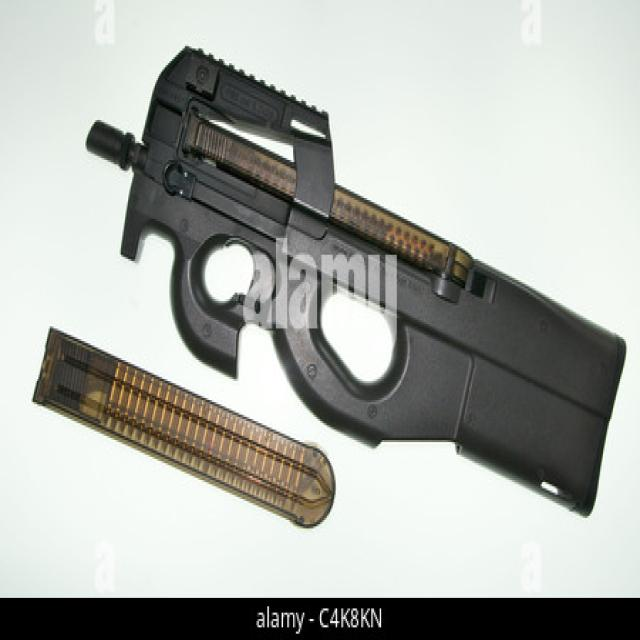Gun: (92, 64, 639, 574)
